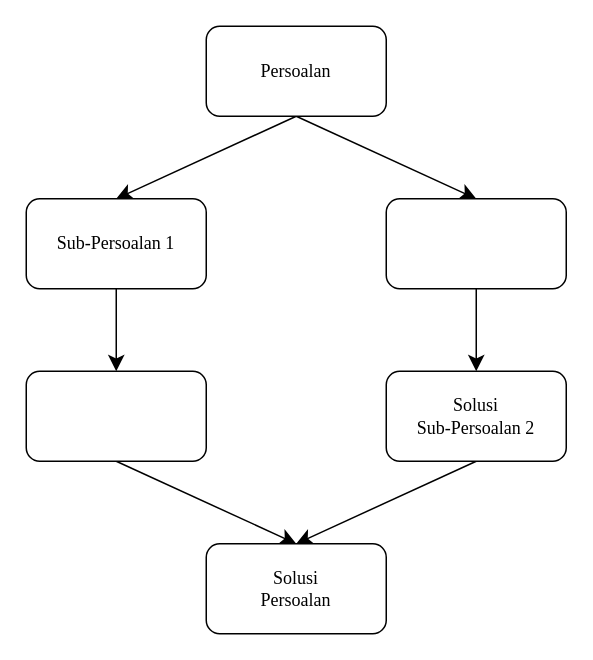
The diagram is 593 pixels wide and 660 high, and some of its shapes have lost their labels. The shapes that lost their labels are listed below. From the top down, each one's centre as x and y in pixels, then its label:
(x=475, y=243): Sub-Persoalan 2
(x=115, y=415): Solusi Sub-Persoalan 1
